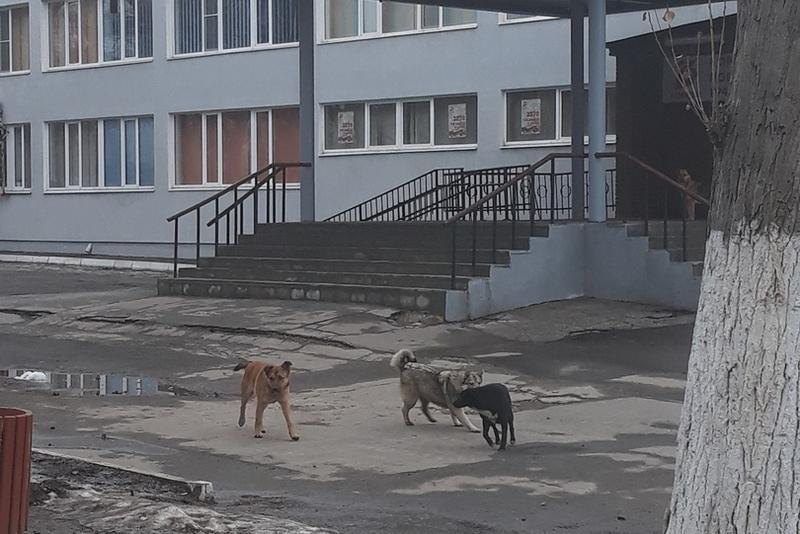dog_aggressive: (233, 358, 302, 444)
normal_dogs: (390, 346, 484, 432), (452, 381, 520, 452)
